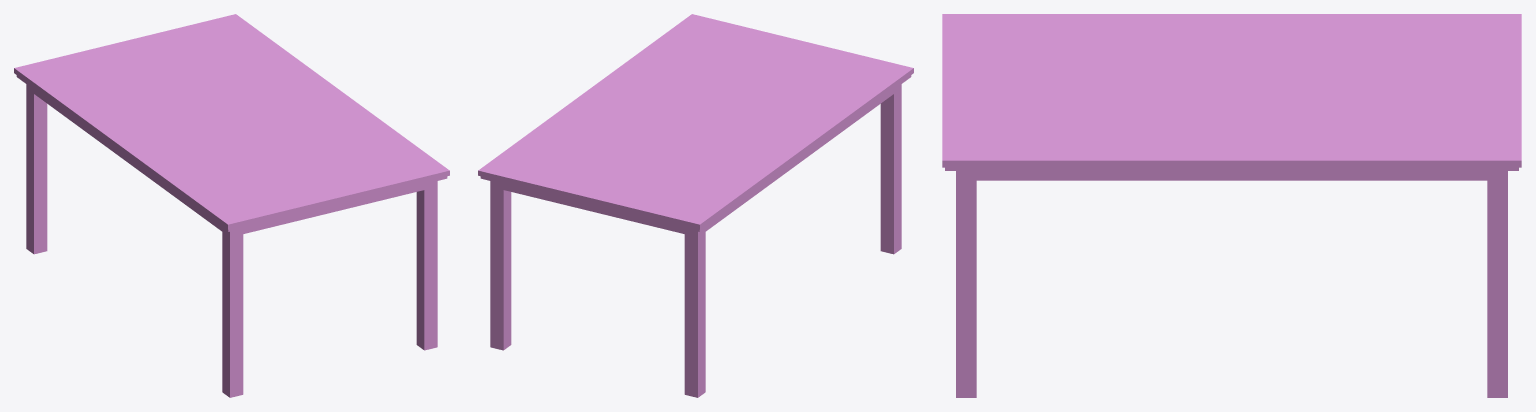
Rendered from MESA 4.fbx.
The picture shows the model from 3 angles, left to right: view 1: azimuth 30°, elevation 25°; view 2: azimuth 150°, elevation 25°; view 3: azimuth 270°, elevation 25°; orthographic projection. The views are drawn at different scales.
Visible parts, largest first — view 1: MESA 4 PERSONAS; view 2: MESA 4 PERSONAS; view 3: MESA 4 PERSONAS.
Boxes of the visible parts, x1=… form: MESA 4 PERSONAS: x1=14, y1=14, x2=449, y2=397; MESA 4 PERSONAS: x1=478, y1=14, x2=913, y2=397; MESA 4 PERSONAS: x1=942, y1=14, x2=1521, y2=397.
Size of the model in its own units: 90.89 by 70 by 152.
